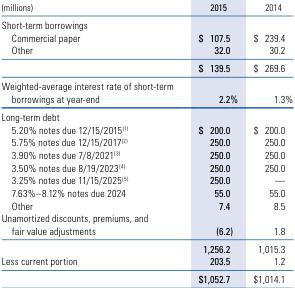table: (0, 0, 292, 284)
table column: (0, 0, 185, 284), (185, 0, 244, 284), (244, 0, 292, 284)
table column header: (0, 0, 292, 15)
table projected row header: (0, 15, 292, 30), (0, 107, 292, 122)
table row: (0, 76, 292, 107), (0, 211, 292, 239), (0, 58, 292, 76), (0, 0, 292, 15), (0, 15, 292, 30), (0, 43, 292, 58), (0, 107, 292, 122), (0, 239, 292, 254), (0, 254, 292, 269), (0, 269, 292, 284), (0, 30, 292, 43), (0, 122, 292, 135), (0, 147, 292, 160), (0, 160, 292, 173), (0, 185, 292, 198), (0, 198, 292, 211), (0, 135, 292, 147), (0, 173, 292, 185)
